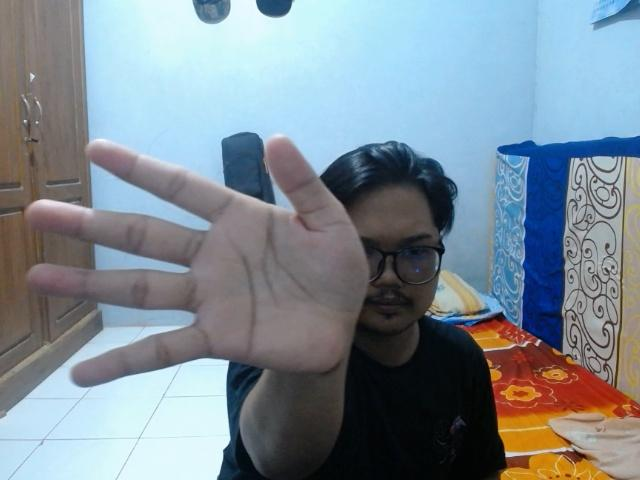Release: (17, 130, 376, 393)
